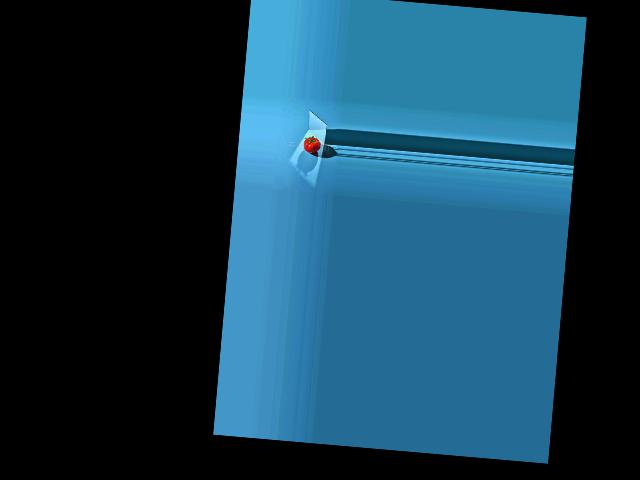tomato: (303, 136, 321, 153)
